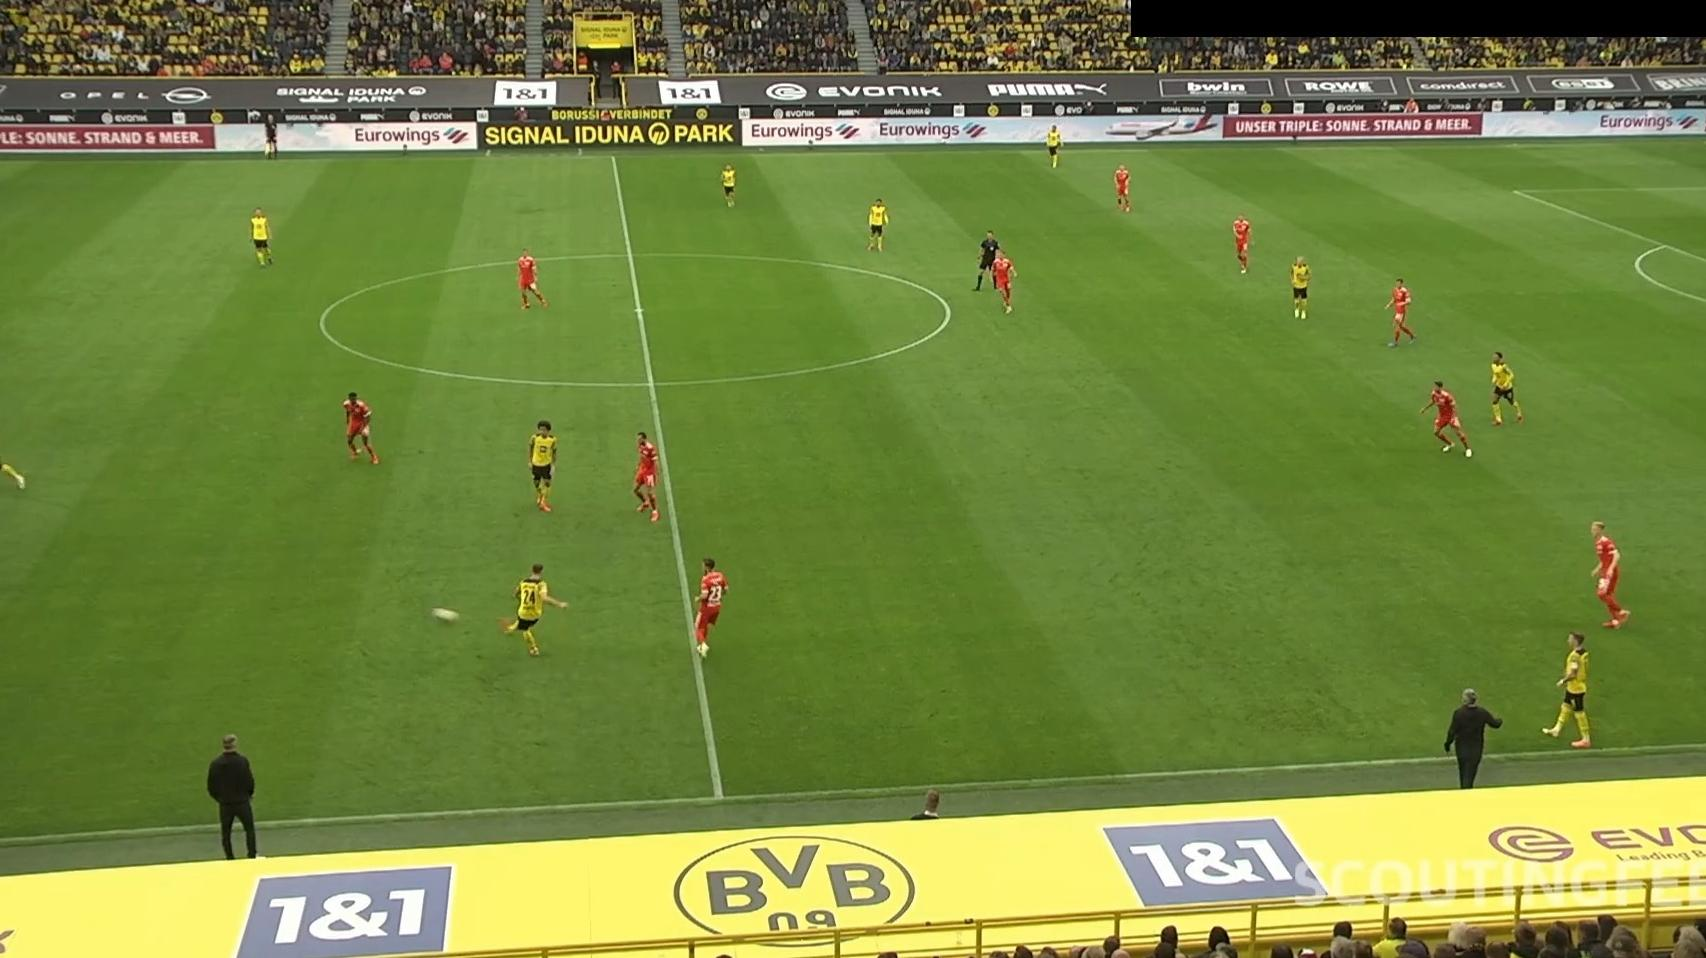ball: (429, 607, 460, 625)
